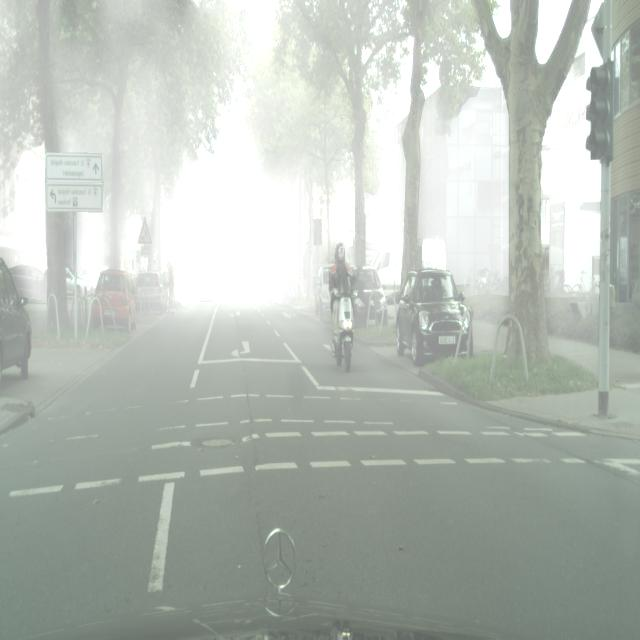bus: (332, 290, 355, 372)
person: (329, 243, 354, 342), (167, 261, 175, 312)
truck: (395, 268, 473, 364), (0, 256, 33, 381), (94, 270, 137, 332), (351, 265, 388, 328), (135, 271, 166, 314), (314, 263, 335, 319), (76, 263, 108, 291), (268, 274, 286, 299), (198, 278, 215, 302)
